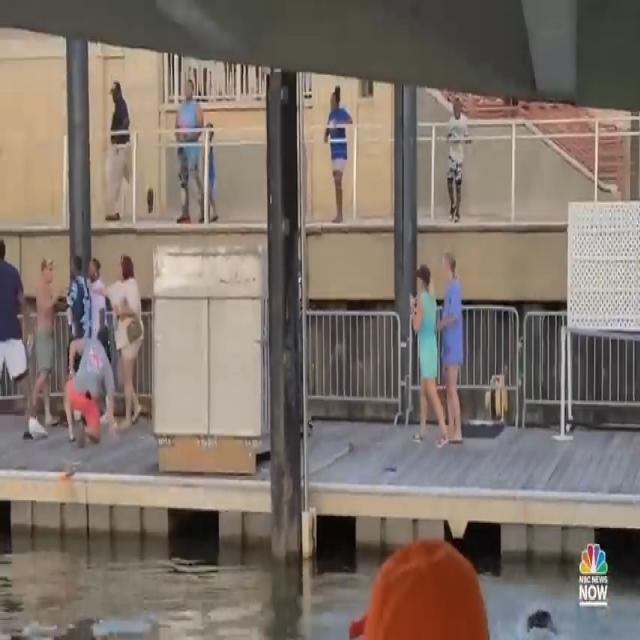fight: (27, 253, 116, 446)
non-fight: (409, 248, 470, 456)
